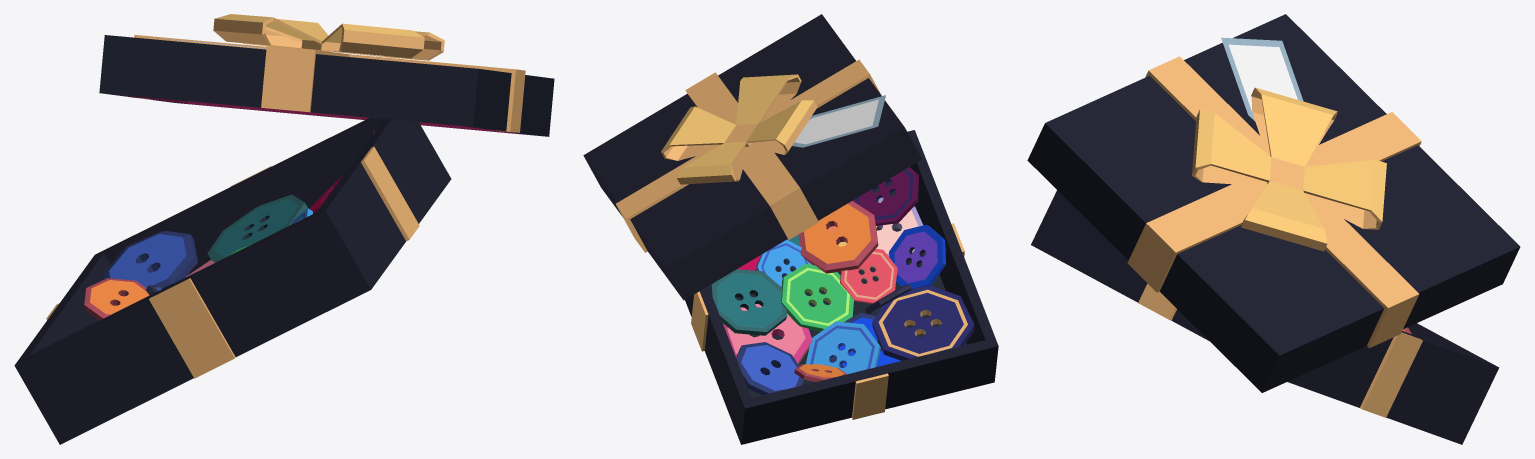
Rendered from Gift.ButtonBits.001.fbx.
3 renders of one model, left to right at view 1: azimuth 30°, elevation 25°; view 2: azimuth 150°, elevation 25°; view 3: azimuth 270°, elevation 25°, orthographic. The views are drawn at different scales.
Visible parts, largest first — view 1: Gift.ButtonBits.001; view 2: Gift.ButtonBits.001; view 3: Gift.ButtonBits.001.
Boxes of the visible parts, box(x1,y1,x2,y2) form: Gift.ButtonBits.001: box(14, 14, 554, 444); Gift.ButtonBits.001: box(583, 14, 998, 444); Gift.ButtonBits.001: box(1027, 14, 1520, 444).
Size of the model in its own units: 143 by 99.49 by 118.
